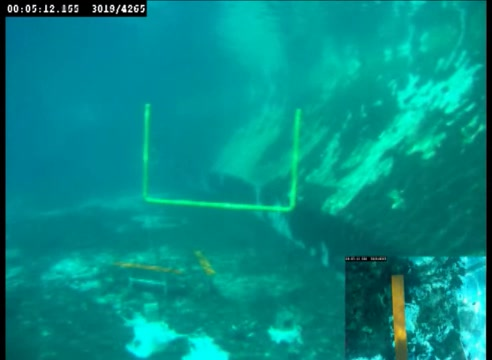channel: (136, 100, 303, 216)
